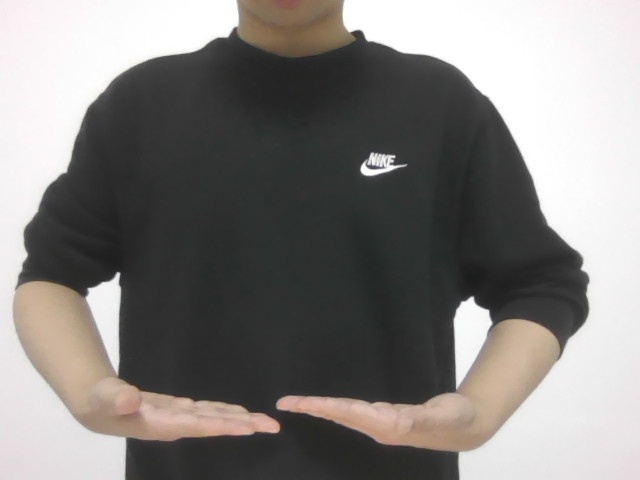today: (78, 342, 492, 473)
